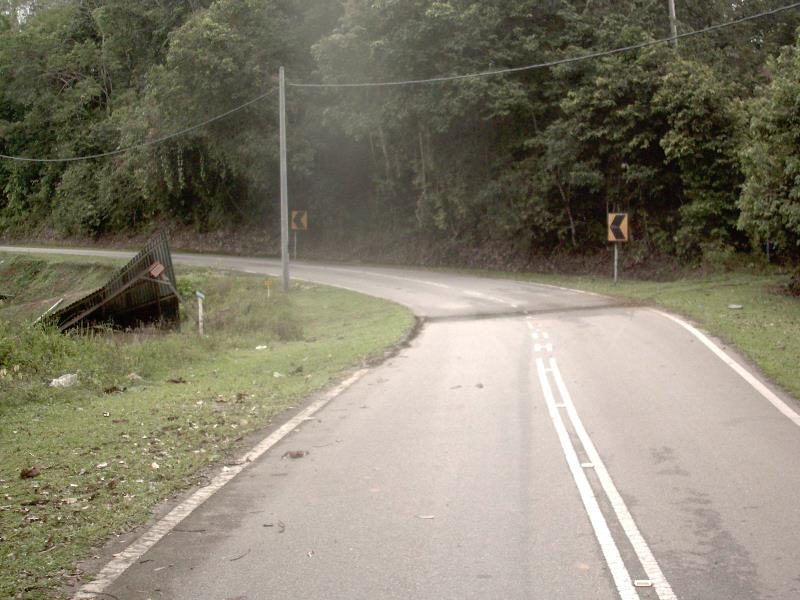traffic_sign: (600, 203, 636, 252)
